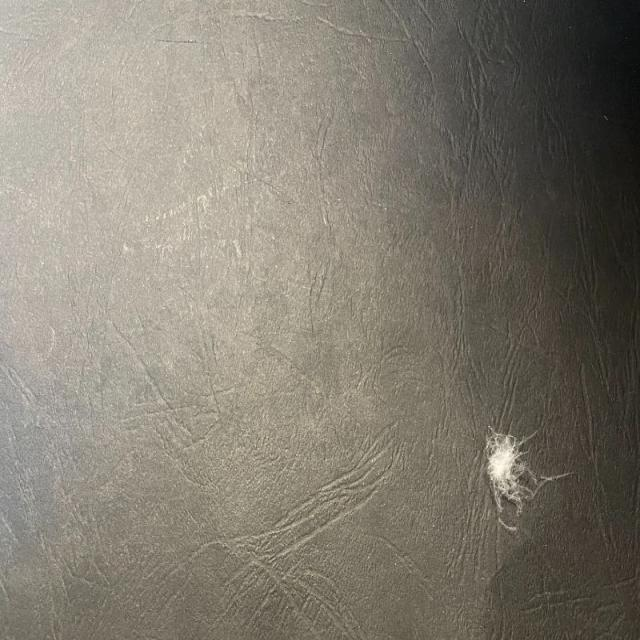feather: (485, 427, 539, 512)
